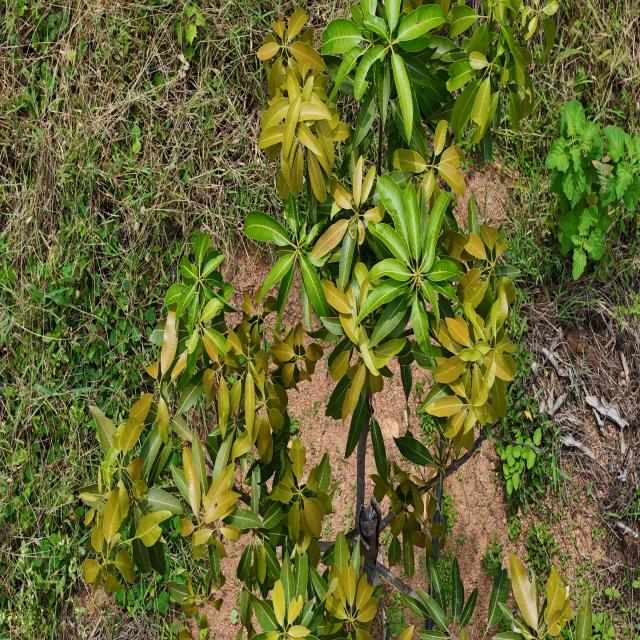mangoTree: (79, 0, 600, 640)
